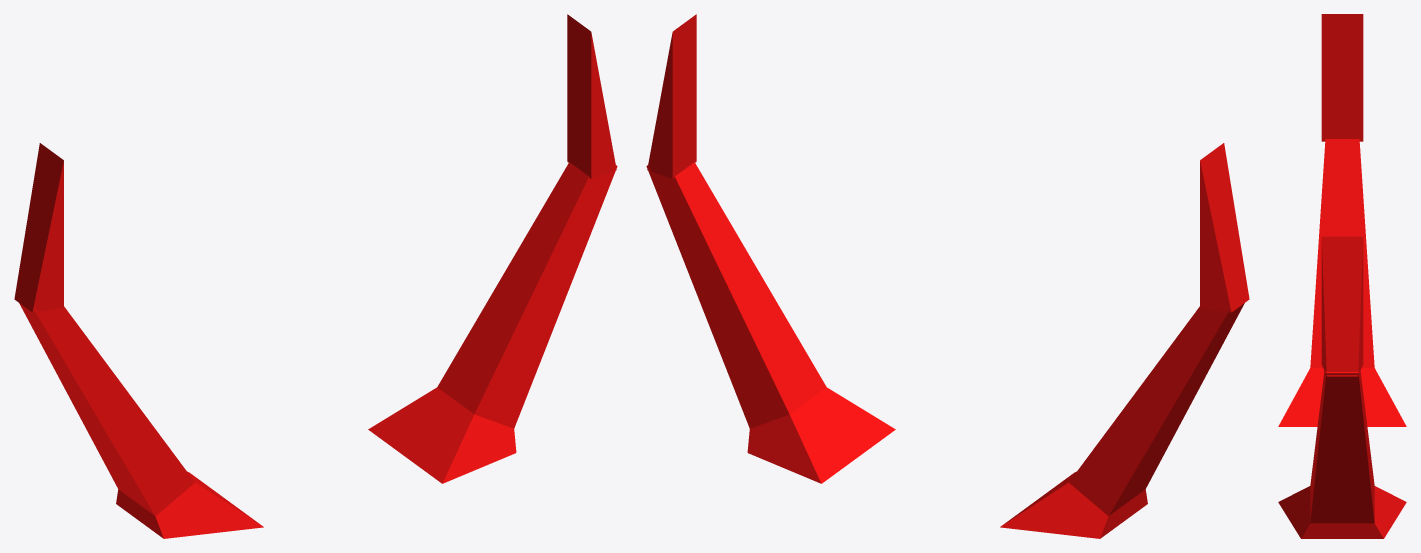
The model's file is Horns.fbx.
The picture shows the model from 3 angles, left to right: view 1: azimuth 30°, elevation 25°; view 2: azimuth 150°, elevation 25°; view 3: azimuth 270°, elevation 25°; orthographic projection. The views are drawn at different scales.
Visible parts, largest first — view 1: mergedBlocks; view 2: mergedBlocks; view 3: mergedBlocks.
Boxes of the visible parts, x1,y1,x2,y2 form: mergedBlocks: (14, 14, 617, 538); mergedBlocks: (646, 14, 1249, 538); mergedBlocks: (1278, 14, 1406, 538).
Size of the model in its own units: 9.54 by 6.1 by 2.1.
